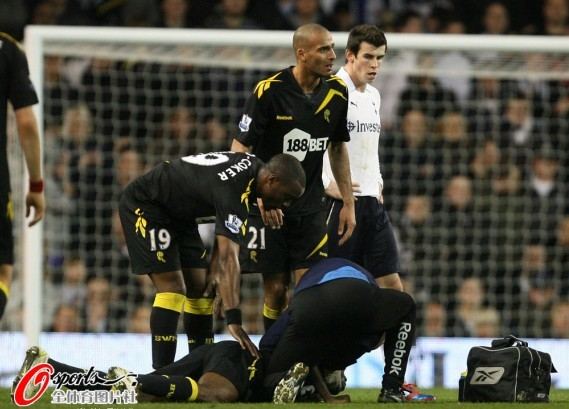10+: (5, 7, 569, 403)
down: (18, 324, 354, 404)
